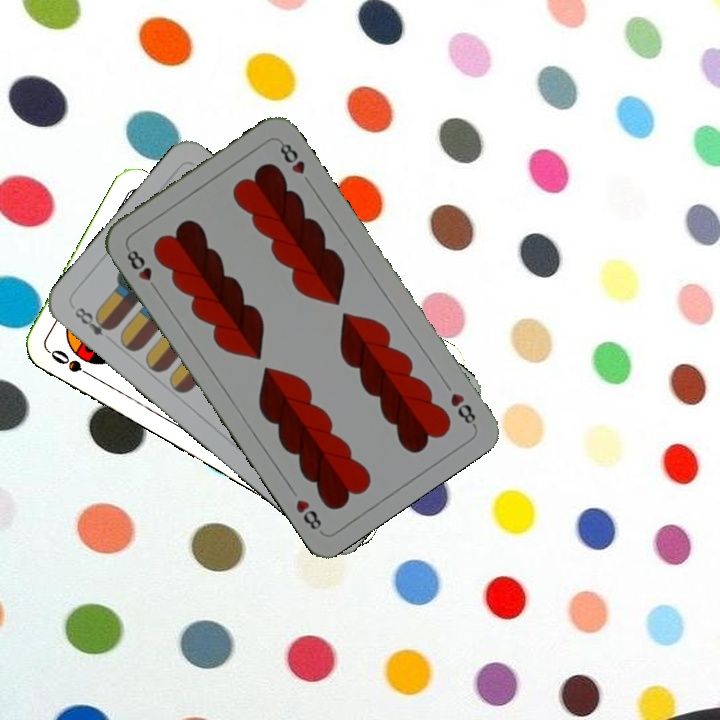E8: (70, 303, 116, 339)
H8: (122, 243, 161, 295), (446, 388, 479, 429)
SO: (45, 345, 99, 382)
